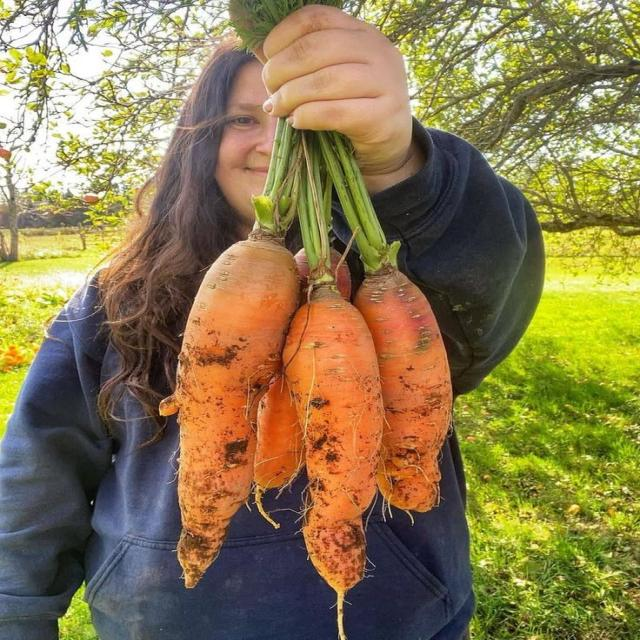carrot: (319, 133, 452, 511), (160, 231, 298, 587), (284, 284, 383, 637), (354, 268, 452, 511), (254, 373, 304, 527), (254, 376, 304, 527), (330, 248, 351, 300)
